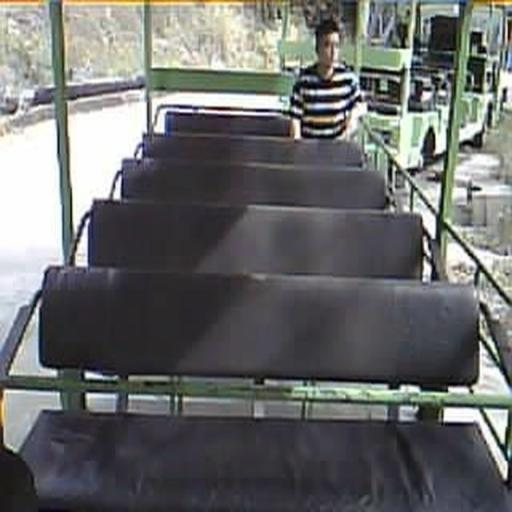persona: (287, 16, 368, 144)
